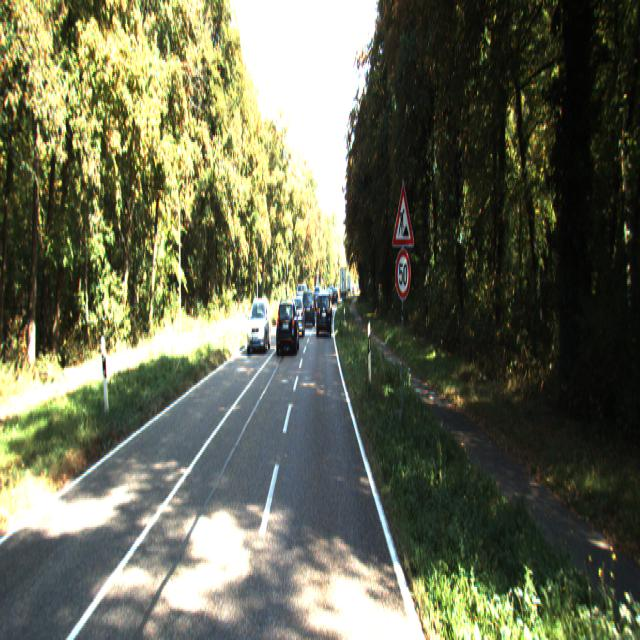Car: (276, 294, 300, 354), (246, 296, 270, 351), (316, 287, 331, 331), (302, 285, 314, 321)
